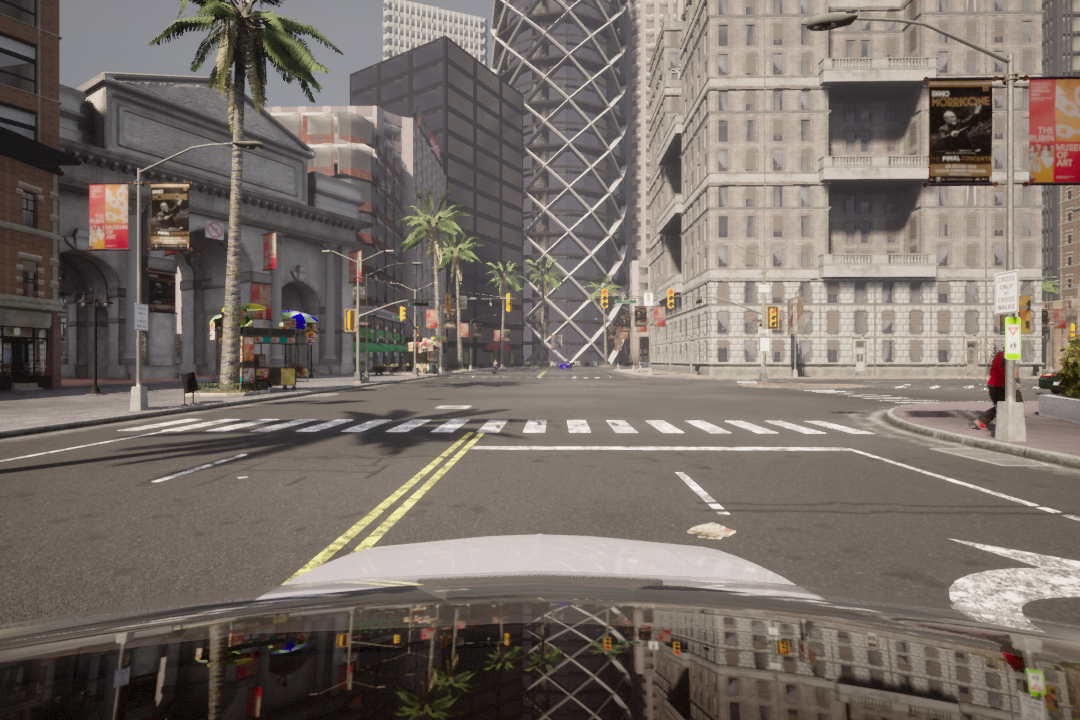TrafficLight: (766, 307, 780, 334), (666, 291, 677, 313), (601, 288, 609, 312)
TrafficSign: (204, 222, 222, 240)
walkside: (107, 406, 880, 446)
